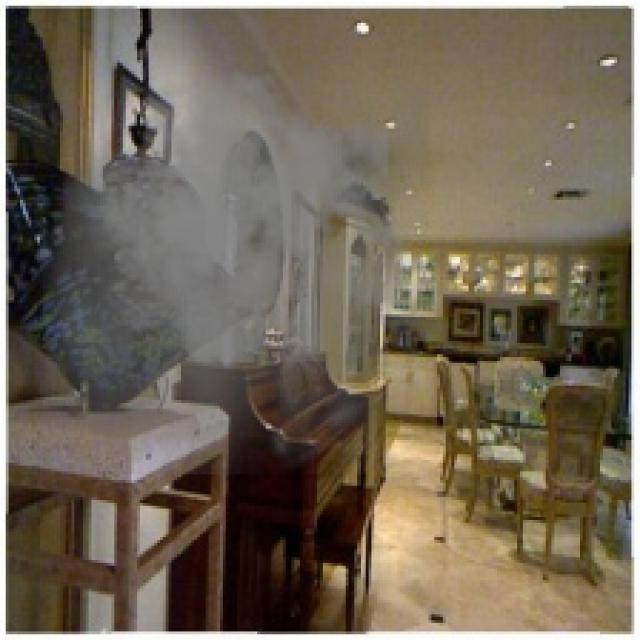smoke: (34, 60, 432, 474)
